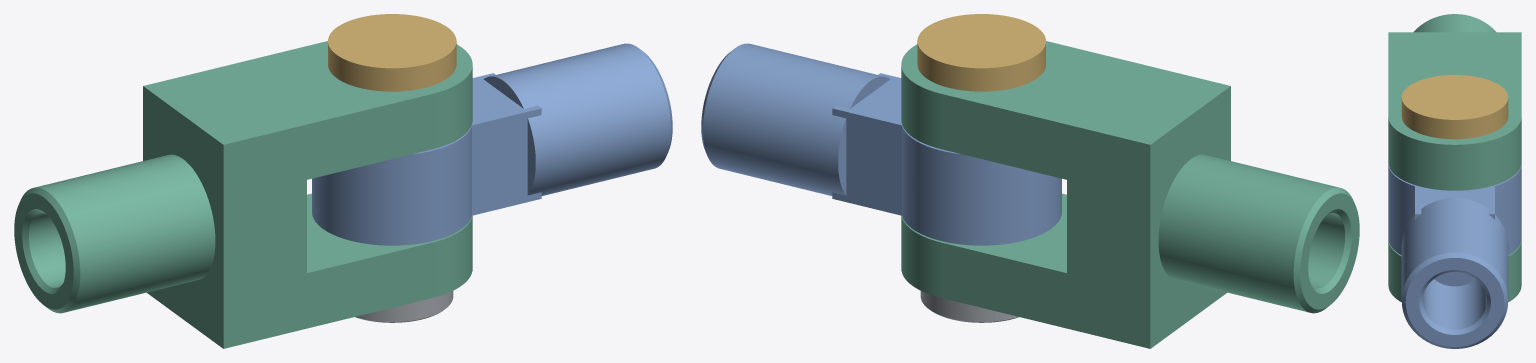
The model's file is step_13.glb.
3 renders of one model, left to right at view 1: azimuth 30°, elevation 25°; view 2: azimuth 150°, elevation 25°; view 3: azimuth 270°, elevation 25°, orthographic. The views are drawn at different scales.
Visible parts, largest first — view 1: part__fork end, part__eye end, part__knuckle pin, part__collar; view 2: part__fork end, part__eye end, part__knuckle pin, part__collar; view 3: part__eye end, part__fork end, part__knuckle pin.
Boxes of the visible parts, bbox=[...] form: part__fork end: bbox=[14, 41, 472, 348]; part__eye end: bbox=[312, 43, 672, 245]; part__knuckle pin: bbox=[328, 14, 456, 91]; part__collar: bbox=[355, 291, 453, 322]; part__fork end: bbox=[901, 41, 1359, 348]; part__eye end: bbox=[701, 43, 1061, 245]; part__knuckle pin: bbox=[917, 14, 1045, 91]; part__collar: bbox=[920, 291, 1018, 322]; part__eye end: bbox=[1388, 164, 1521, 348]; part__fork end: bbox=[1388, 14, 1521, 301]; part__knuckle pin: bbox=[1401, 75, 1508, 139].
Size of the model in its own units: 215 by 91 by 50.
